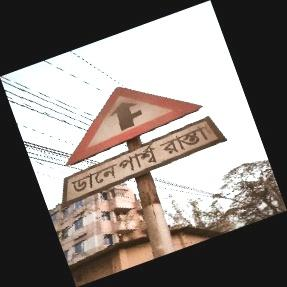Side-road-right: (62, 86, 226, 202)
